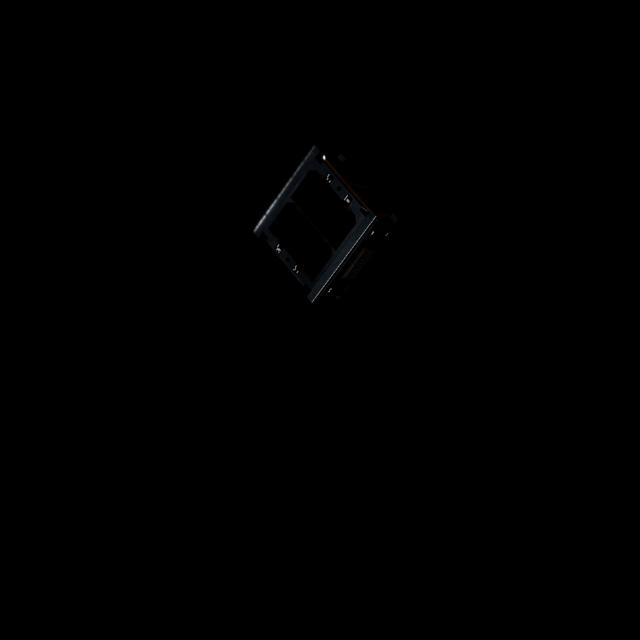medium_debris: (247, 144, 404, 316)
